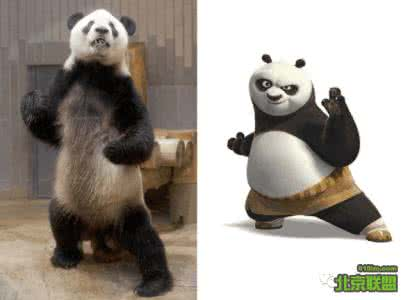panda: (15, 6, 173, 298)
